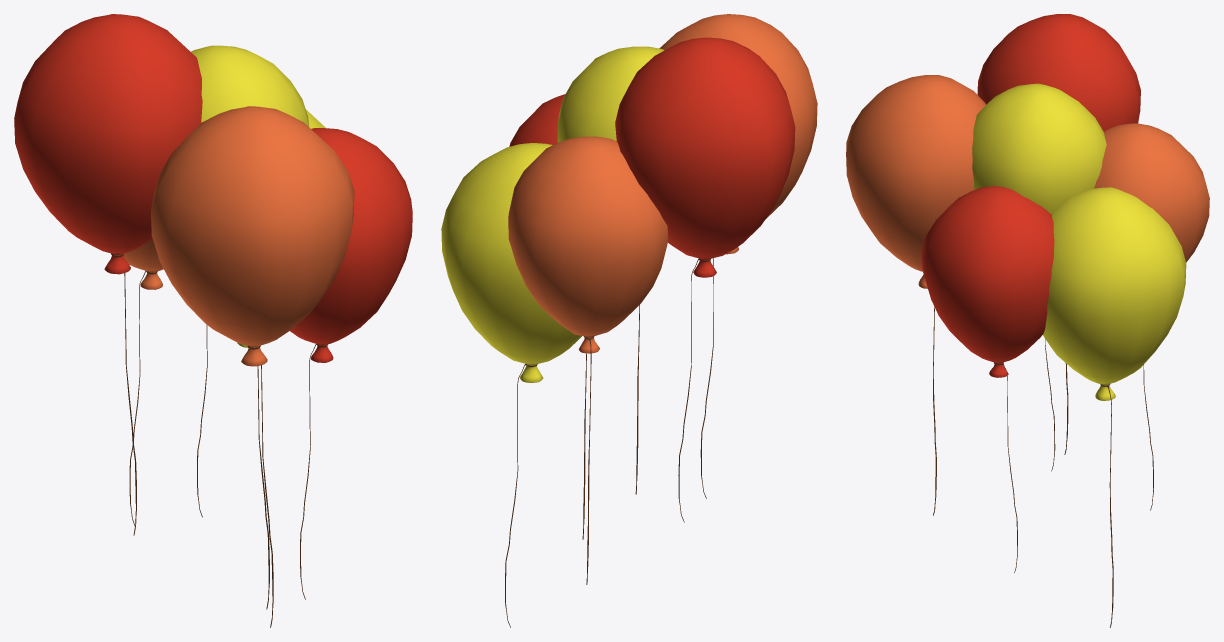
The model's file is ballons_cluster_redorangeyellow.fbx.
The picture shows the model from 3 angles, left to right: view 1: azimuth 30°, elevation 25°; view 2: azimuth 150°, elevation 25°; view 3: azimuth 270°, elevation 25°; orthographic projection. The views are drawn at different scales.
Visible parts, largest first — view 1: Cube.015; view 2: Cube.015; view 3: Cube.015.
Part boxes in pixels (x1,y1,x2,y2): Cube.015: (14, 14, 412, 627); Cube.015: (441, 14, 817, 627); Cube.015: (846, 14, 1209, 627).
Bounding box in the file's own units: 968 × 1803 × 1108.
4 materials, 4 textured.
